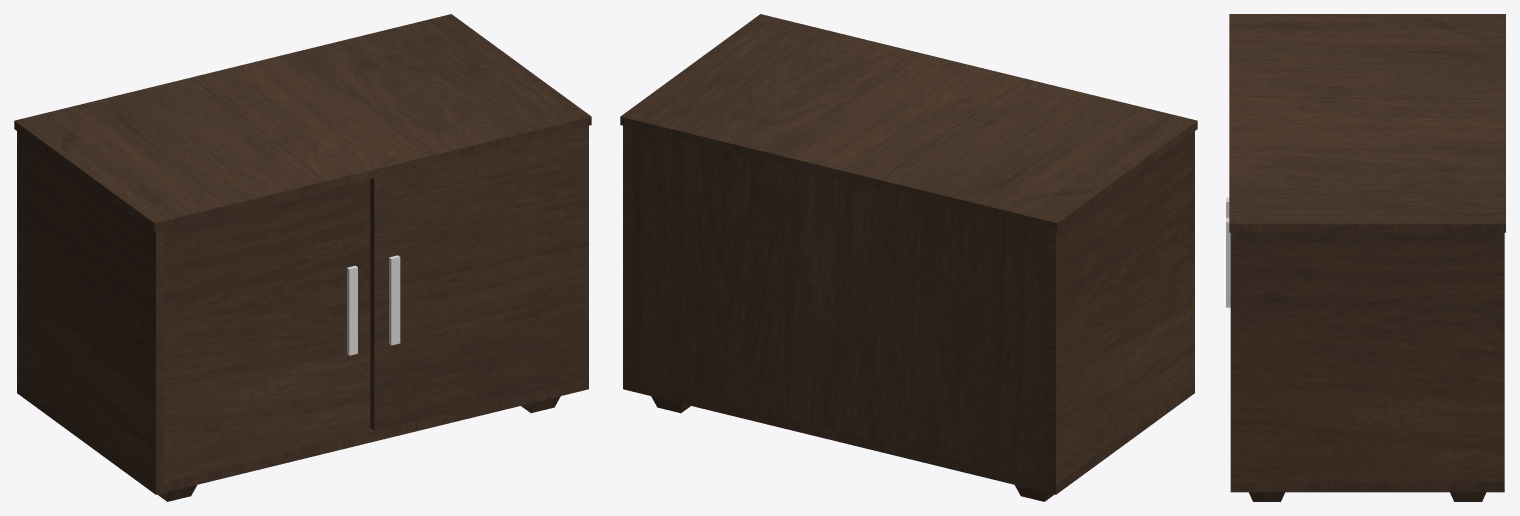
The model's file is cabinet low.fbx.
3 renders of one model, left to right at view 1: azimuth 30°, elevation 25°; view 2: azimuth 150°, elevation 25°; view 3: azimuth 270°, elevation 25°, orthographic.
Parts seen in each view (by area): view 1: CabinetDoorBreak..006_cell.001, CabinetDoorBreak..012, Cabinet, CabinetDoorBreak..007_cell.002, CabinetBreak.001_cell.002_cell, CabinetBreak.001_cell, CabinetBreak.002_cell, CabinetBreak.001_cell.002_cell.001, CabinetBreak.002_cell.002, CabinetDoorBreak.006_cell, Door2, CabinetDoorBreak..006_cell.002 (+4 smaller); view 2: Cabinet, CabinetBreak.001_cell.002_cell, CabinetBreak.001_cell, CabinetBreak.001_cell.002_cell.001, CabinetBreak.002_cell, CabinetBreak.002_cell.002, CabinetBreak.001_cell.002_cell.002; view 3: Cabinet, CabinetBreak.003_cell, CabinetBreak.003_cell.002, CabinetBreak.001_cell.002_cell, CabinetBreak.001_cell, CabinetBreak.001_cell.002_cell.001, CabinetBreak.001_cell.002_cell.002, CabinetBreak_cell.001, CabinetDoorBreak..012.
Boxes of the visible parts, x1,y1,x2,y2 form: CabinetDoorBreak..006_cell.001: (164,179,370,401); CabinetDoorBreak..012: (373,235,580,430); Cabinet: (15,15,588,501); CabinetDoorBreak..007_cell.002: (371,127,580,303); CabinetBreak.001_cell.002_cell: (14,76,279,231); CabinetBreak.001_cell: (289,14,591,157); CabinetBreak.002_cell: (17,203,163,484); CabinetBreak.001_cell.002_cell.001: (196,76,454,200); CabinetBreak.002_cell.002: (82,183,163,463); CabinetDoorBreak.006_cell: (164,334,279,482); Door2: (370,178,580,430); CabinetDoorBreak..006_cell.002: (264,341,370,453); Cabinet: (620,19,1197,501); CabinetBreak.001_cell.002_cell: (877,90,1196,223); CabinetBreak.001_cell: (620,14,900,155); CabinetBreak.001_cell.002_cell.001: (833,48,1071,178); CabinetBreak.002_cell: (1048,235,1166,483); CabinetBreak.002_cell.002: (1122,131,1194,301); CabinetBreak.001_cell.002_cell.002: (784,112,872,177); Cabinet: (1229,14,1505,501); CabinetBreak.003_cell: (1237,302,1504,481); CabinetBreak.003_cell.002: (1256,232,1504,442); CabinetBreak.001_cell.002_cell: (1229,14,1505,100); CabinetBreak.001_cell: (1229,146,1505,232); CabinetBreak.001_cell.002_cell.001: (1229,74,1505,156); CabinetBreak.001_cell.002_cell.002: (1393,103,1505,149); CabinetBreak_cell.001: (1230,482,1503,501); CabinetDoorBreak..012: (1226,218,1230,307).
Size of the model in its own units: 109 by 70 by 61.3.
